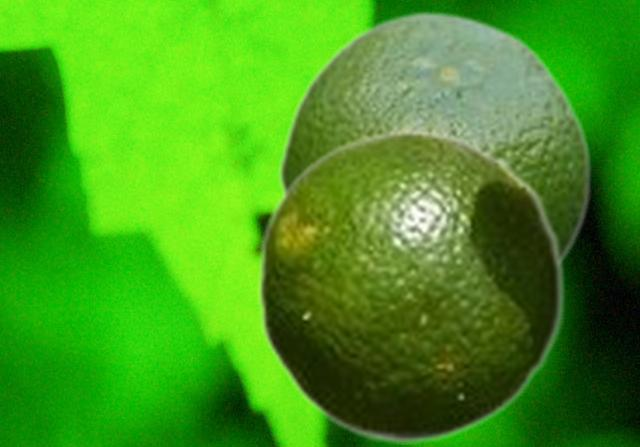calamansi: (255, 128, 566, 443), (276, 8, 592, 263)
